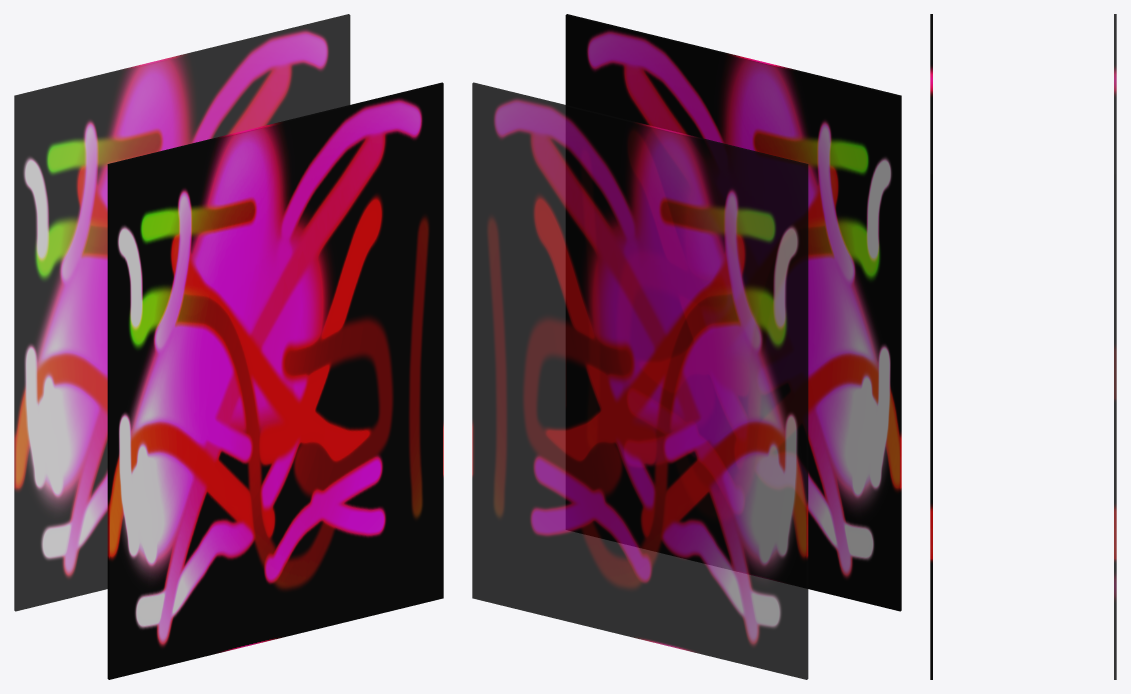
The picture shows the model from 3 angles, left to right: view 1: azimuth 30°, elevation 25°; view 2: azimuth 150°, elevation 25°; view 3: azimuth 270°, elevation 25°; orthographic projection.
Parts seen in each view (by area): view 1: Plane, Plane.001; view 2: Plane.001, Plane; view 3: Plane, Plane.001.
Part boxes in pixels (box(x1,y1,x2,y2)): Plane: box(107, 82, 443, 679); Plane.001: box(14, 14, 350, 611); Plane.001: box(472, 82, 808, 679); Plane: box(565, 14, 901, 611); Plane: box(930, 14, 932, 679); Plane.001: box(1114, 14, 1116, 679).
Bounding box in the file's own units: 1.98 × 2.91 × 0.9723.
Materials: 2 (2 with a texture image).
